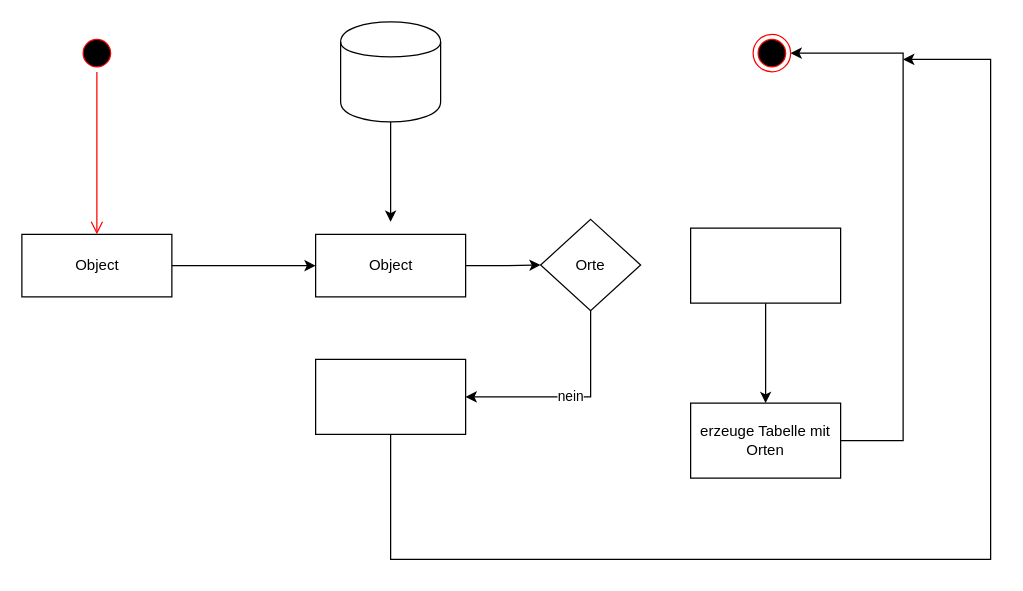
The diagram is 1023 pixels wide and 591 high, and some of its shapes have lost their labels. Each missing label, with the box of its shape:
Macht Marker für jeden Ort: (689, 227, 841, 303)
Zentriert auf "Wien": (314, 358, 466, 434)
